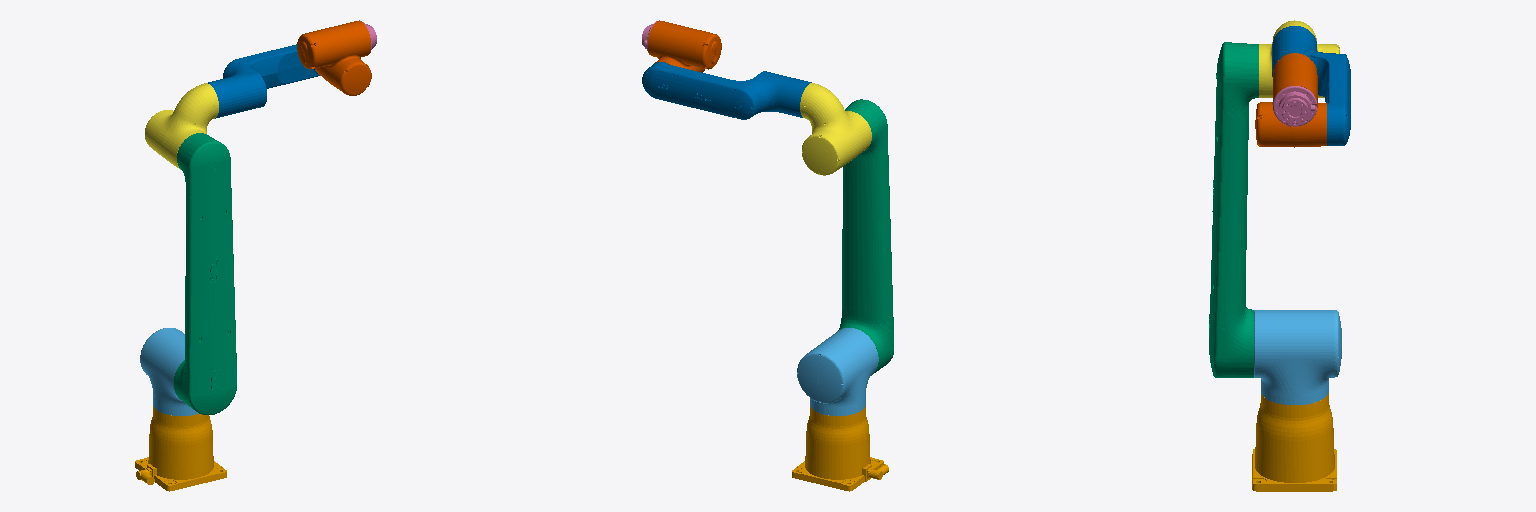
robot.urdf — CRB15000_12-127:
<?xml version="1.0" ?>
<robot name="CRB15000_12-127">

<link name="base_link">
  <inertial>
    <origin xyz="0.6499026049481219 0.8820630101343084 1.2667733856659833" rpy="0 0 0"/>
    <mass value="43.32183458222497"/>
    <inertia ixx="0.254824" iyy="0.26074" izz="0.191484" ixy="-0.000567" iyz="-0.000372" ixz="-0.003894"/>
  </inertial>
  <visual>
    <origin xyz="0 0 0" rpy="0 0 0"/>
    <geometry>
      <mesh filename="package://CRB15000_12-127_description/meshes/base_link.stl" scale="0.001 0.001 0.001"/>
    </geometry>
    <material name="silver"/>
  </visual>
  <collision>
    <origin xyz="0 0 0" rpy="0 0 0"/>
    <geometry>
      <mesh filename="package://CRB15000_12-127_description/meshes/base_link.stl" scale="0.001 0.001 0.001"/>
    </geometry>
  </collision>
</link>

<link name="link_1_1">
  <inertial>
    <origin xyz="-2.938946441766177e-08 0.0044105362189267305 0.10253435639427089" rpy="0 0 0"/>
    <mass value="41.02561837016391"/>
    <inertia ixx="0.236925" iyy="0.184428" izz="0.192336" ixy="-1e-06" iyz="-0.003705" ixz="0.0"/>
  </inertial>
  <visual>
    <origin xyz="-0.651068 -0.882174 -1.382204" rpy="0 0 0"/>
    <geometry>
      <mesh filename="package://CRB15000_12-127_description/meshes/link_1_1.stl" scale="0.001 0.001 0.001"/>
    </geometry>
    <material name="silver"/>
  </visual>
  <collision>
    <origin xyz="-0.651068 -0.882174 -1.382204" rpy="0 0 0"/>
    <geometry>
      <mesh filename="package://CRB15000_12-127_description/meshes/link_1_1.stl" scale="0.001 0.001 0.001"/>
    </geometry>
  </collision>
</link>

<link name="link_2_1">
  <inertial>
    <origin xyz="3.741413248103953e-07 -0.054321122191886784 0.31994018861855444" rpy="0 0 0"/>
    <mass value="70.93334568132663"/>
    <inertia ixx="4.564659" iyy="4.624729" izz="0.149362" ixy="0.0" iyz="-0.067788" ixz="-2e-06"/>
  </inertial>
  <visual>
    <origin xyz="-0.650818 -0.787024 -1.505304" rpy="0 0 0"/>
    <geometry>
      <mesh filename="package://CRB15000_12-127_description/meshes/link_2_1.stl" scale="0.001 0.001 0.001"/>
    </geometry>
    <material name="silver"/>
  </visual>
  <collision>
    <origin xyz="-0.650818 -0.787024 -1.505304" rpy="0 0 0"/>
    <geometry>
      <mesh filename="package://CRB15000_12-127_description/meshes/link_2_1.stl" scale="0.001 0.001 0.001"/>
    </geometry>
  </collision>
</link>

<link name="link_3_1">
  <inertial>
    <origin xyz="0.012899518260057863 0.09273722024727038 0.024906919150265328" rpy="0 0 0"/>
    <mass value="26.38179204175825"/>
    <inertia ixx="0.135785" iyy="0.109627" izz="0.102204" ixy="0.002633" iyz="0.005085" ixz="-0.024959"/>
  </inertial>
  <visual>
    <origin xyz="-0.650818 -0.796874 -2.212273" rpy="0 0 0"/>
    <geometry>
      <mesh filename="package://CRB15000_12-127_description/meshes/link_3_1.stl" scale="0.001 0.001 0.001"/>
    </geometry>
    <material name="silver"/>
  </visual>
  <collision>
    <origin xyz="-0.650818 -0.796874 -2.212273" rpy="0 0 0"/>
    <geometry>
      <mesh filename="package://CRB15000_12-127_description/meshes/link_3_1.stl" scale="0.001 0.001 0.001"/>
    </geometry>
  </collision>
</link>

<link name="link_4_1">
  <inertial>
    <origin xyz="0.19839385789646258 0.05675474228411992 4.579617467470598e-07" rpy="0 0 0"/>
    <mass value="27.702603279655857"/>
    <inertia ixx="0.097388" iyy="0.497655" izz="0.55515" ixy="-0.13931" iyz="1e-06" ixz="5e-06"/>
  </inertial>
  <visual>
    <origin xyz="-0.746818 -0.881874 -2.322273" rpy="0 0 0"/>
    <geometry>
      <mesh filename="package://CRB15000_12-127_description/meshes/link_4_1.stl" scale="0.001 0.001 0.001"/>
    </geometry>
    <material name="silver"/>
  </visual>
  <collision>
    <origin xyz="-0.746818 -0.881874 -2.322273" rpy="0 0 0"/>
    <geometry>
      <mesh filename="package://CRB15000_12-127_description/meshes/link_4_1.stl" scale="0.001 0.001 0.001"/>
    </geometry>
  </collision>
</link>

<link name="link_5_1">
  <inertial>
    <origin xyz="-0.014714517898320345 -0.07856643556852694 0.04275434954511015" rpy="0 0 0"/>
    <mass value="23.637515690396576"/>
    <inertia ixx="0.08996" iyy="0.106457" izz="0.085163" ixy="0.001414" iyz="-0.004125" ixz="0.012972"/>
  </inertial>
  <visual>
    <origin xyz="-1.183701 -0.957374 -2.322273" rpy="0 0 0"/>
    <geometry>
      <mesh filename="package://CRB15000_12-127_description/meshes/link_5_1.stl" scale="0.001 0.001 0.001"/>
    </geometry>
    <material name="silver"/>
  </visual>
  <collision>
    <origin xyz="-1.183701 -0.957374 -2.322273" rpy="0 0 0"/>
    <geometry>
      <mesh filename="package://CRB15000_12-127_description/meshes/link_5_1.stl" scale="0.001 0.001 0.001"/>
    </geometry>
  </collision>
</link>

<link name="link_6_1">
  <inertial>
    <origin xyz="0.012751001319583066 0.00024007149782090398 -0.0003419668957884703" rpy="0 0 0"/>
    <mass value="1.1500357263477234"/>
    <inertia ixx="0.001012" iyy="0.000597" izz="0.000601" ixy="-1e-06" iyz="-5e-06" ixz="1e-06"/>
  </inertial>
  <visual>
    <origin xyz="-1.251701 -0.882874 -2.402273" rpy="0 0 0"/>
    <geometry>
      <mesh filename="package://CRB15000_12-127_description/meshes/link_6_1.stl" scale="0.001 0.001 0.001"/>
    </geometry>
    <material name="silver"/>
  </visual>
  <collision>
    <origin xyz="-1.251701 -0.882874 -2.402273" rpy="0 0 0"/>
    <geometry>
      <mesh filename="package://CRB15000_12-127_description/meshes/link_6_1.stl" scale="0.001 0.001 0.001"/>
    </geometry>
  </collision>
</link>

<joint name="j1" type="continuous">
  <origin xyz="0.651068 0.882174 1.382204" rpy="0 0 0"/>
  <parent link="base_link"/>
  <child link="link_1_1"/>
  <axis xyz="0.0 -0.0 1.0"/>
</joint>

<joint name="j2" type="continuous">
  <origin xyz="-0.00025 -0.09515 0.1231" rpy="0 0 0"/>
  <parent link="link_1_1"/>
  <child link="link_2_1"/>
  <axis xyz="0.0 -1.0 0.0"/>
</joint>

<joint name="j3" type="continuous">
  <origin xyz="0.0 0.00985 0.706969" rpy="0 0 0"/>
  <parent link="link_2_1"/>
  <child link="link_3_1"/>
  <axis xyz="-0.0 1.0 -0.0"/>
</joint>

<joint name="j4" type="continuous">
  <origin xyz="0.096 0.085 0.11" rpy="0 0 0"/>
  <parent link="link_3_1"/>
  <child link="link_4_1"/>
  <axis xyz="1.0 -0.0 0.0"/>
</joint>

<joint name="j5" type="continuous">
  <origin xyz="0.436883 0.0755 0.0" rpy="0 0 0"/>
  <parent link="link_4_1"/>
  <child link="link_5_1"/>
  <axis xyz="0.0 -1.0 0.0"/>
</joint>

<joint name="j6" type="continuous">
  <origin xyz="0.068 -0.0745 0.08" rpy="0 0 0"/>
  <parent link="link_5_1"/>
  <child link="link_6_1"/>
  <axis xyz="1.0 -0.0 0.0"/>
</joint>

</robot>

--- Render facts (derived) ---
3 views of the same robot in one strip: view 1: azimuth 30°, elevation 25°; view 2: azimuth 150°, elevation 25°; view 3: azimuth 270°, elevation 25° (orthographic).
Model CRB15000_12-127 with 7 links and 6 joints (6 continuous), rooted at base_link, posed every joint at zero.
Links seen in each view (by area): view 1: link_2_1, base_link, link_4_1, link_5_1, link_3_1, link_1_1; view 2: link_2_1, link_4_1, link_1_1, base_link, link_3_1, link_5_1; view 3: link_2_1, link_1_1, base_link, link_4_1, link_5_1, link_6_1, link_3_1.
Boxes of the visible links, x1=… form: link_2_1: x1=174, y1=133, x2=236, y2=414; base_link: x1=135, y1=406, x2=226, y2=491; link_4_1: x1=208, y1=44, x2=319, y2=118; link_5_1: x1=297, y1=21, x2=371, y2=95; link_3_1: x1=145, y1=83, x2=218, y2=169; link_1_1: x1=140, y1=328, x2=198, y2=415; link_2_1: x1=838, y1=99, x2=893, y2=372; link_4_1: x1=642, y1=62, x2=811, y2=119; link_1_1: x1=797, y1=328, x2=878, y2=415; base_link: x1=792, y1=406, x2=888, y2=491; link_3_1: x1=800, y1=83, x2=871, y2=175; link_5_1: x1=648, y1=21, x2=721, y2=72; link_2_1: x1=1209, y1=42, x2=1258, y2=377; link_1_1: x1=1254, y1=310, x2=1341, y2=404; base_link: x1=1252, y1=393, x2=1336, y2=491; link_4_1: x1=1272, y1=26, x2=1350, y2=145; link_5_1: x1=1255, y1=53, x2=1326, y2=147; link_6_1: x1=1273, y1=86, x2=1316, y2=126; link_3_1: x1=1259, y1=20, x2=1339, y2=97.
Bounding box of the posed robot: 0.775 × 0.3354 × 1.29 m (x, y, z).
Meshes: 7 distinct files referenced, 7 mesh visuals loaded (7 binary STL).